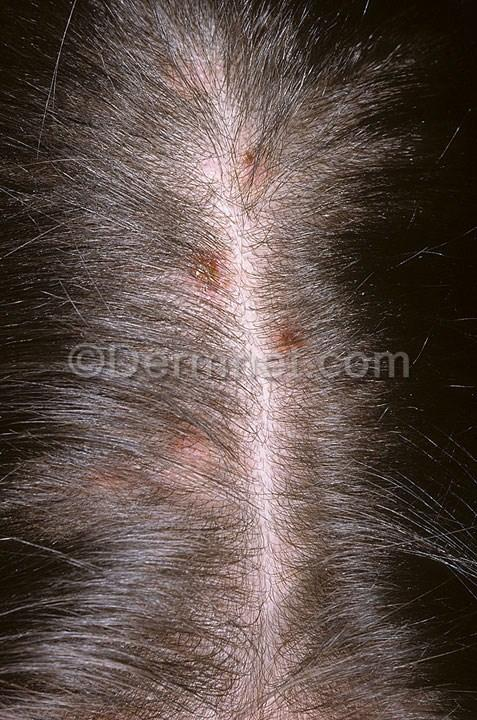Eczema: (65, 410, 277, 551), (231, 99, 313, 240), (148, 222, 243, 310), (152, 25, 225, 121), (259, 296, 329, 349)
